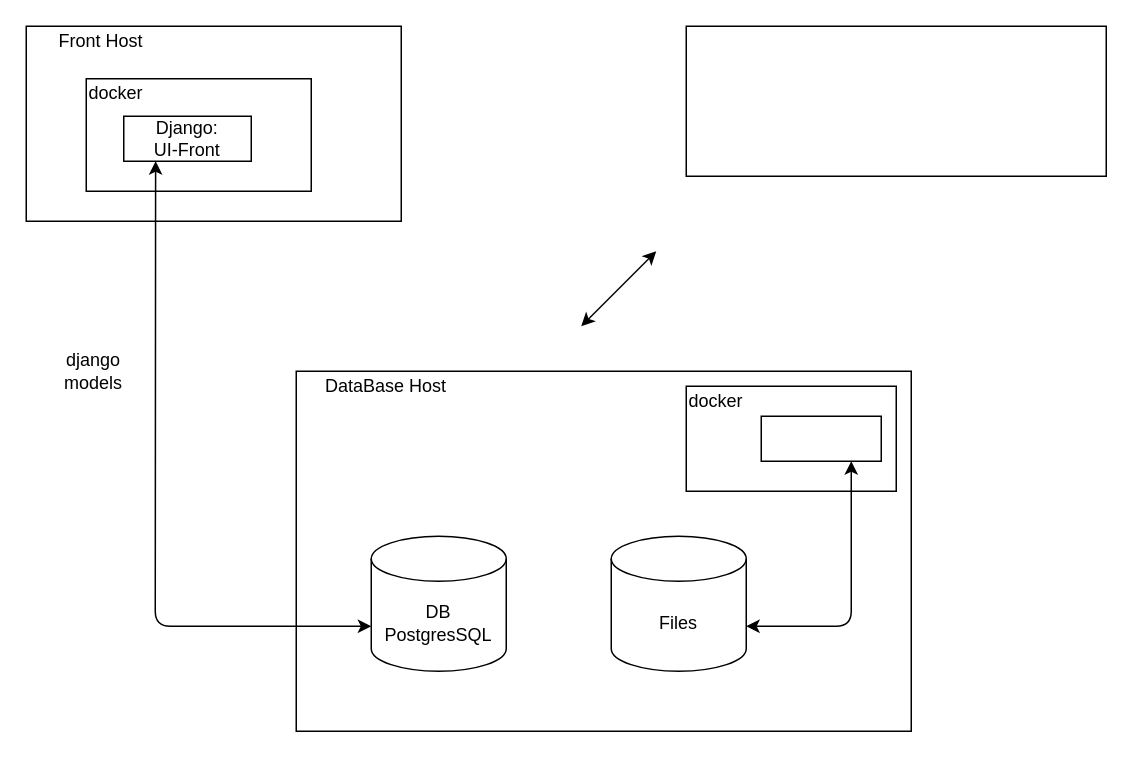
Image size: 1133x758. Some labels were removed from this diagram. The centre of each missing label's shape, as x and y in pixels:
BackEnd Host: (x=895, y=100)
Django: DataBase: (x=820, y=438)
